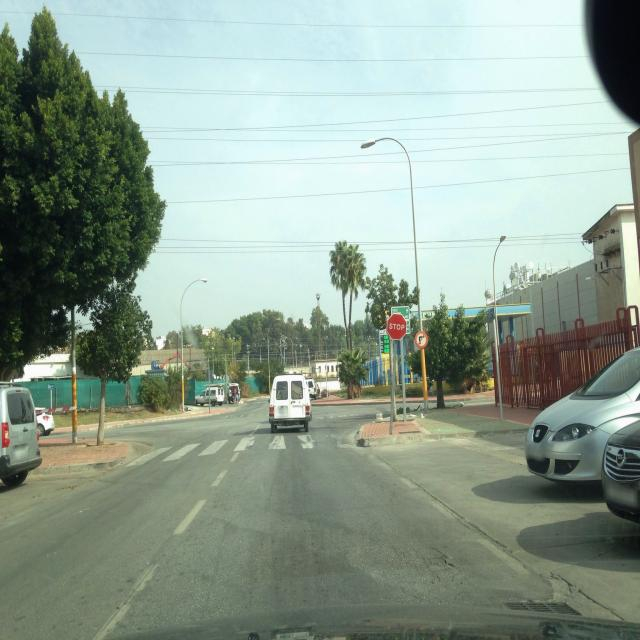car: (525, 340, 640, 492), (601, 356, 640, 546), (0, 380, 42, 496), (268, 372, 312, 433), (33, 407, 55, 436), (195, 386, 226, 406)
